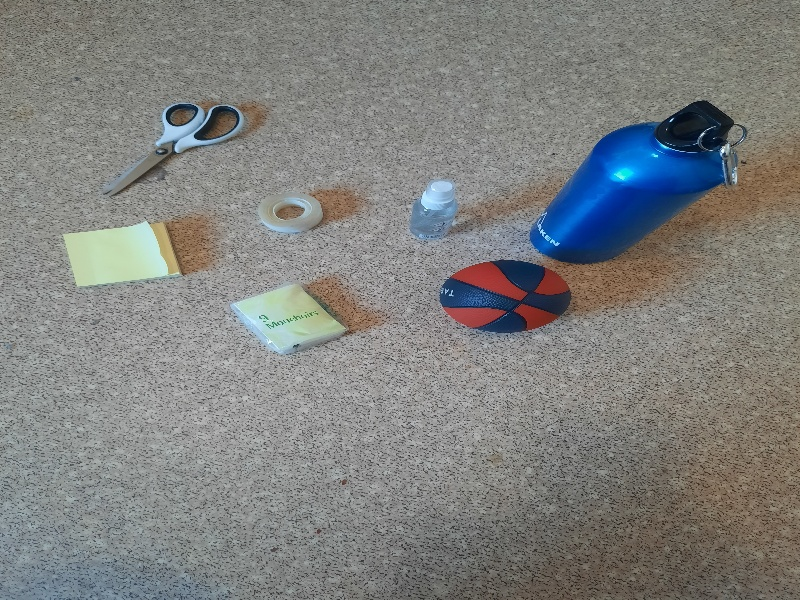ballon: (439, 259, 572, 333)
ciseaux: (100, 103, 243, 199)
gel: (408, 180, 459, 241)
gourde: (529, 99, 743, 265)
mouchoirs: (229, 284, 348, 354)
post-it: (59, 221, 187, 289)
scotch: (257, 191, 328, 230)
